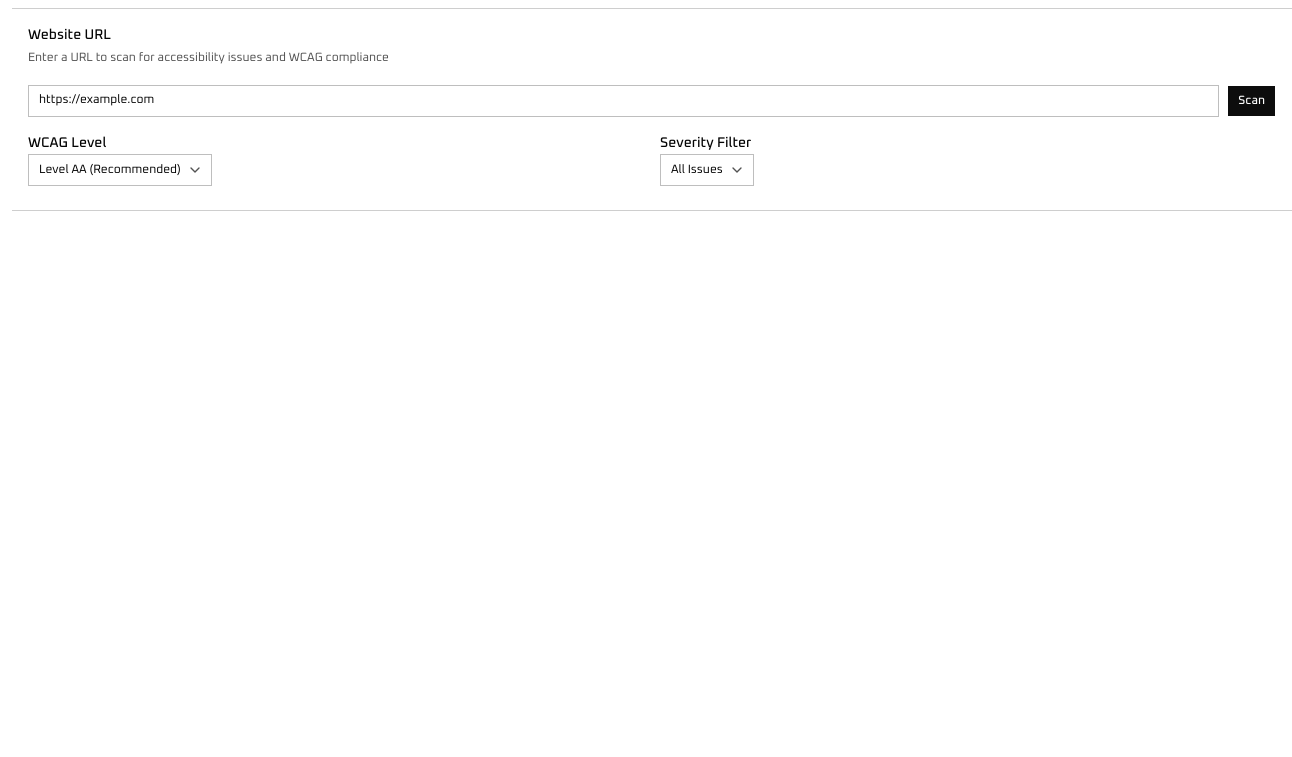
it: Accessibility Checker › displays success message when no issues found
Click the button "Scan" at (1252, 100), box x1=1227 y1=84 x2=1276 y2=116
(page scrolled)
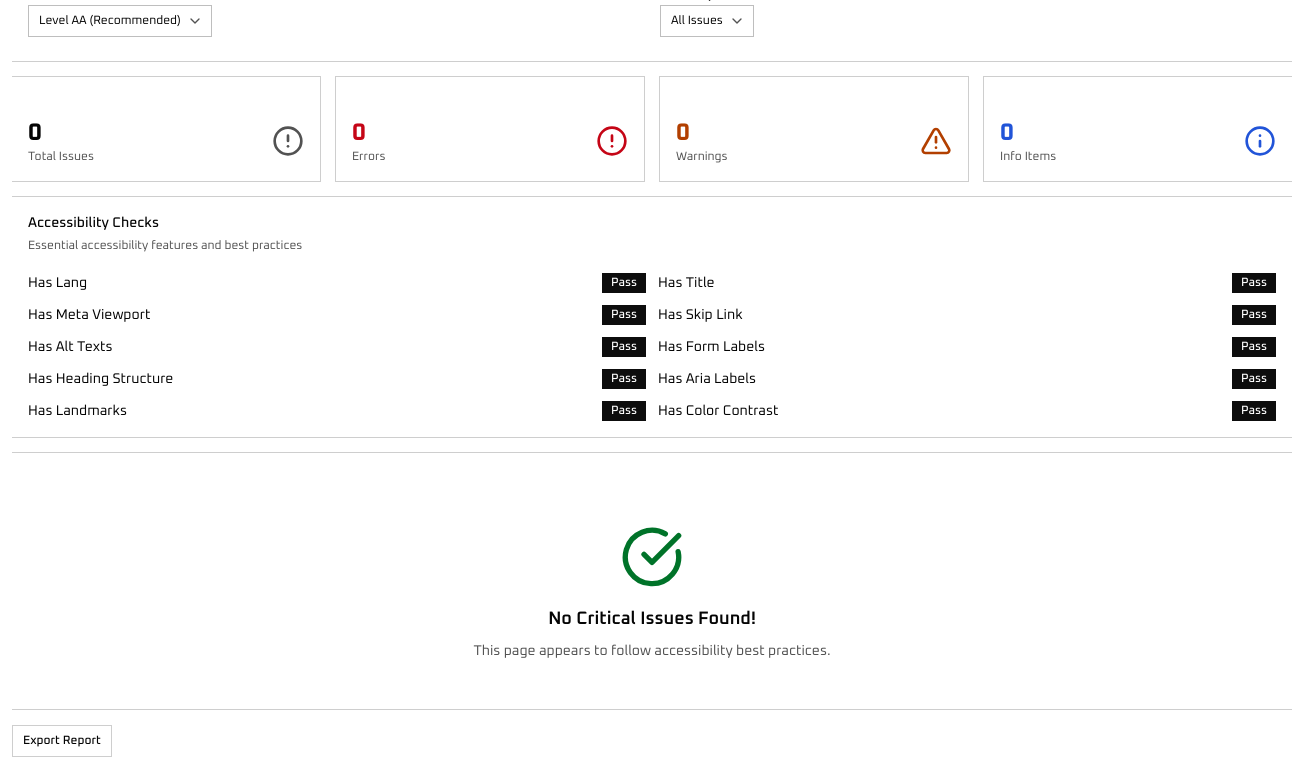
Result: the heading "No Critical Issues Found!" is shown at x1=548 y1=604 x2=756 y2=632
Result: the text "This page appears to follow accessibility best practices." is shown at x1=473 y1=640 x2=830 y2=660
